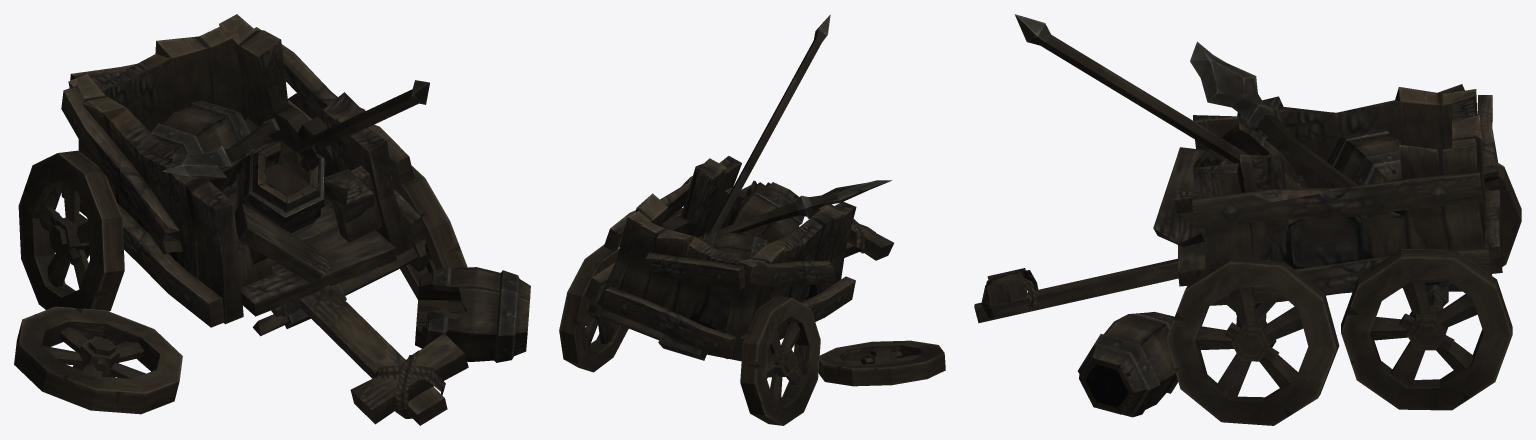
The model's file is cart_destroyed_burnt_01.fbx.
3 views of the same model, side by side, from view 1: azimuth 30°, elevation 25°; view 2: azimuth 150°, elevation 25°; view 3: azimuth 270°, elevation 25° (orthographic). The views are drawn at different scales.
Visible parts, largest first — view 1: obj1.119; view 2: obj1.119; view 3: obj1.119.
Boxes of the visible parts, x1,y1,x2,y2 form: obj1.119: (14,14,530,425); obj1.119: (559,14,945,425); obj1.119: (974,14,1521,425).
Bounding box in the file's own units: 6.01 × 4.69 × 6.65.
